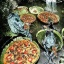pizza: (1, 40, 39, 64), (37, 13, 57, 23)
